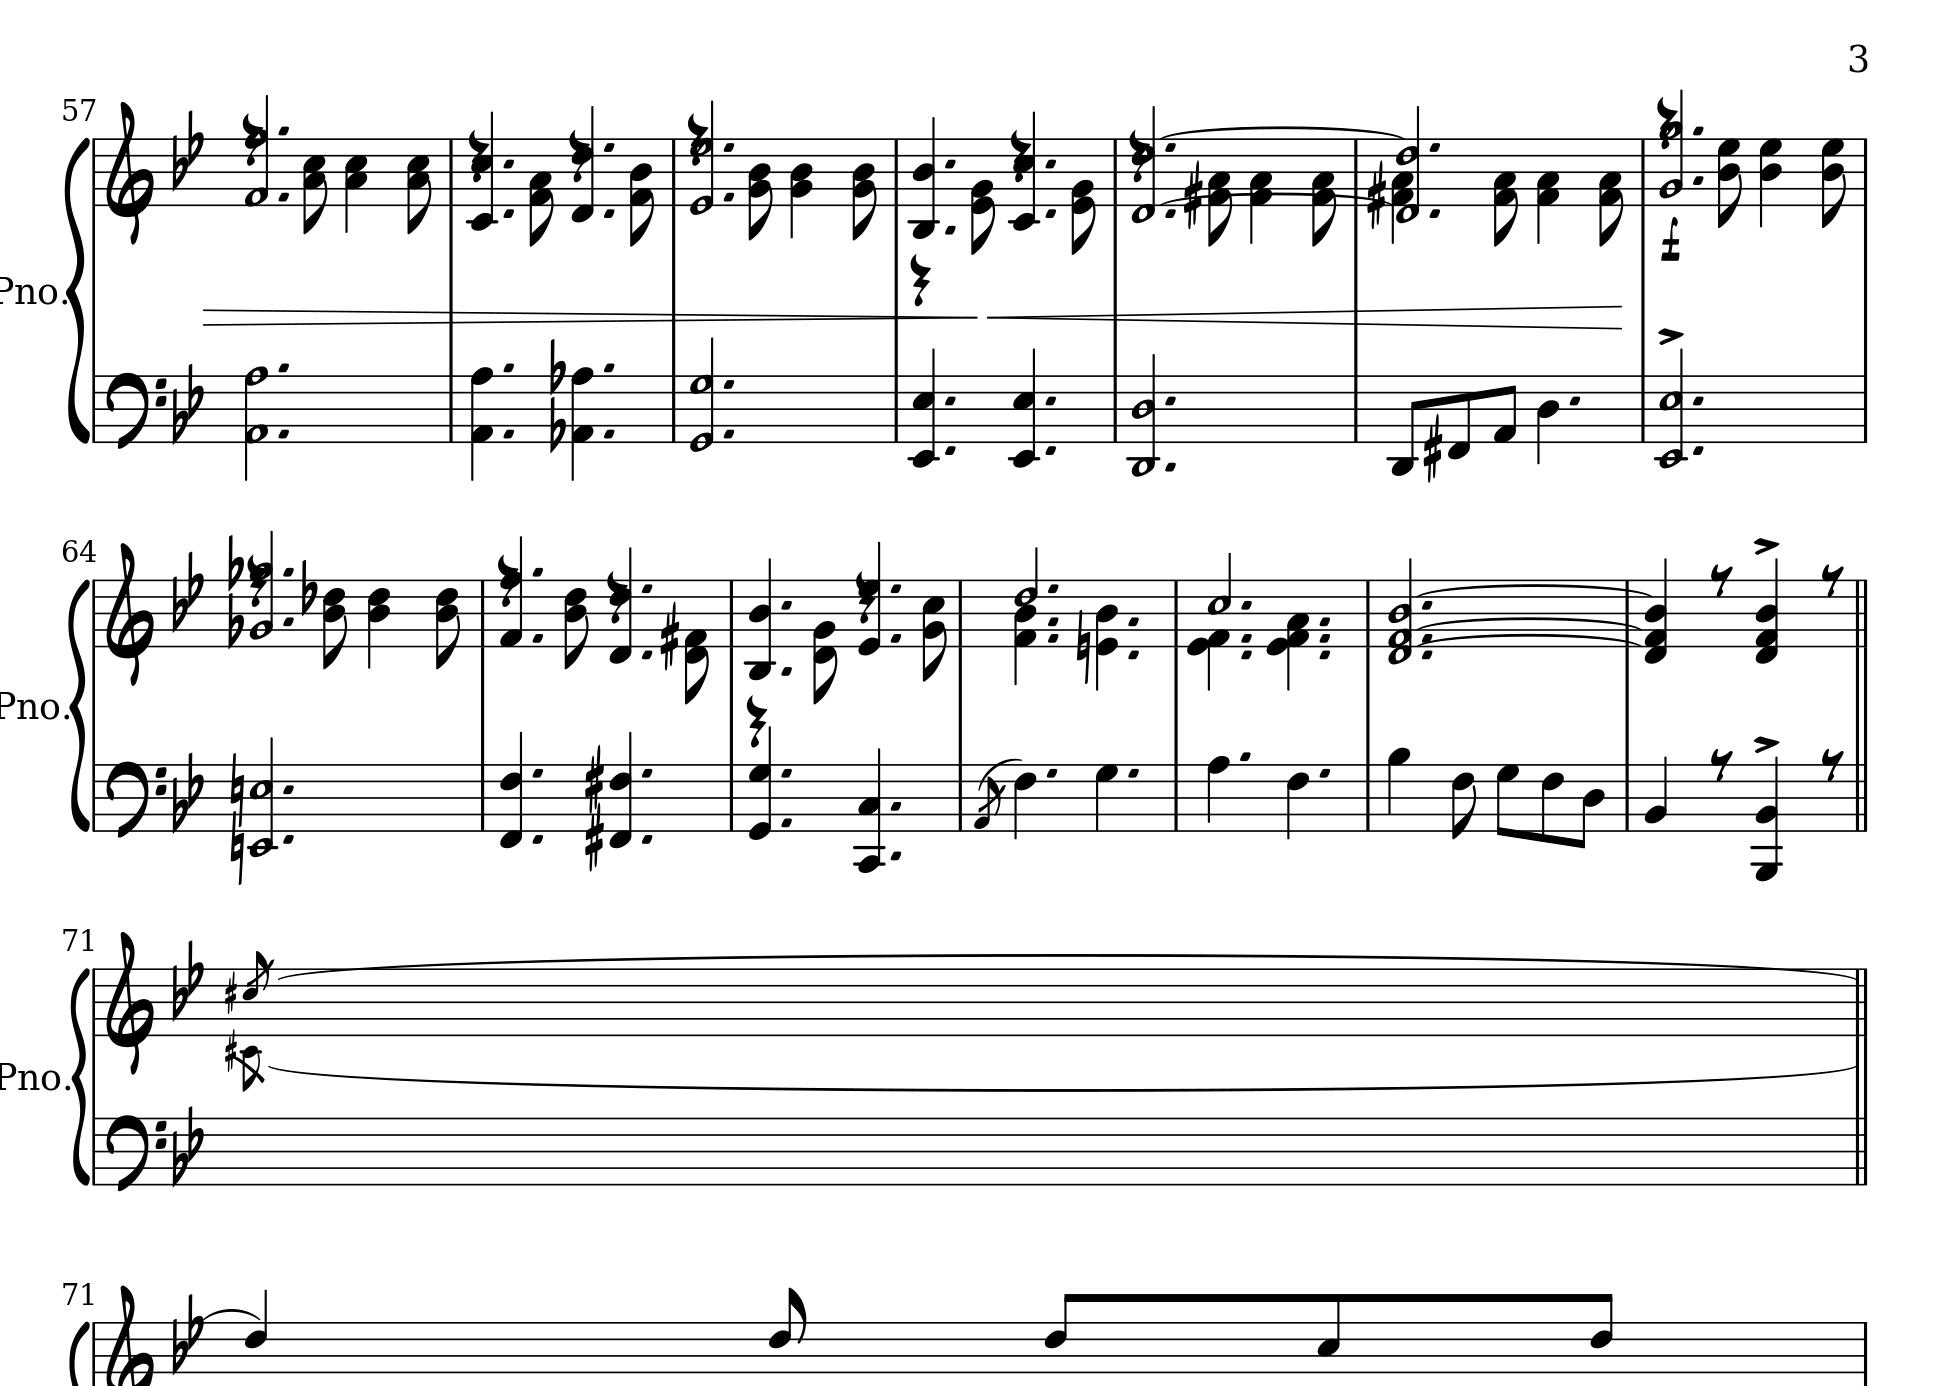1: (79, 925, 94, 954), (79, 1279, 94, 1308)
2_-2_5: (1654, 349, 1689, 471), (246, 736, 280, 856)
2_-3_4: (1125, 354, 1164, 477)
2_0_7: (685, 337, 715, 454)
2_1_8: (243, 364, 270, 483)
3: (1848, 40, 1869, 73)
4: (79, 537, 97, 564)
4_-1_6: (607, 730, 637, 849), (496, 730, 526, 849)
4_-2_5: (1008, 349, 1044, 469), (904, 348, 940, 468)
4_-3_4: (907, 114, 943, 240), (745, 558, 777, 682)
4_-4_3: (852, 748, 889, 874)
4_-5_2: (1752, 756, 1785, 882)
4_0_7: (747, 724, 775, 841)
4_1_3: (1249, 136, 1275, 250), (1536, 133, 1561, 247)
4_1_8: (568, 364, 595, 481), (468, 364, 493, 481)
4_2: (1642, 754, 1671, 832)
4_2_4: (789, 136, 816, 238)
4_3_5: (343, 136, 370, 235)
4_4: (1536, 373, 1560, 465)
4_4_6: (366, 577, 391, 675)
4_4_7: (1758, 136, 1783, 231)
4_6: (1284, 762, 1311, 841), (1012, 762, 1038, 840)
4_7: (1093, 762, 1119, 832)
4_8: (1206, 753, 1230, 832)
4_9: (1386, 745, 1411, 832)
4_th: (1642, 556, 1671, 666), (1389, 558, 1417, 666), (1755, 558, 1782, 666)
5: (60, 94, 78, 123)
6: (61, 535, 79, 562)
7: (79, 94, 97, 124), (61, 925, 79, 952), (61, 1279, 79, 1306)
8_-1: (1447, 373, 1473, 462)
8_-1_1: (682, 577, 712, 708)
8_-1_2: (811, 579, 838, 703)
8_-3: (1387, 373, 1419, 478)
8_0_2: (970, 136, 999, 256), (1069, 136, 1098, 255)
8_1: (1491, 373, 1518, 444)
8_1_3: (528, 136, 556, 247), (1206, 136, 1234, 247), (1492, 135, 1521, 246), (1597, 133, 1626, 244), (1311, 135, 1338, 246)
8_1_4: (628, 136, 657, 249)
8_2_4: (747, 136, 775, 241), (850, 136, 879, 241)
8_2_5: (921, 577, 951, 685)
8_3_5: (301, 136, 330, 235), (403, 136, 432, 235)
8_4: (1573, 763, 1606, 850)
8_4_6: (321, 577, 349, 669), (433, 577, 462, 667), (562, 577, 591, 667)
8_4_7: (1714, 136, 1747, 229), (1818, 135, 1851, 228)
8_6: (1449, 760, 1477, 841), (1539, 762, 1564, 844)
8_7: (1495, 762, 1519, 838)
Accent_above: (1659, 322, 1686, 346), (1752, 732, 1780, 753), (1752, 535, 1782, 555)
Acciaccature: (240, 949, 274, 1036), (970, 759, 1005, 834), (235, 1042, 265, 1092)
B_F: (169, 750, 205, 834), (169, 108, 204, 193), (169, 1294, 205, 1375), (171, 939, 205, 1023), (169, 361, 202, 445), (171, 1104, 204, 1186)
Brace: (64, 139, 90, 445), (70, 576, 90, 829), (72, 964, 91, 1185)
Double_barline: (1848, 1117, 1872, 1183), (1851, 579, 1872, 646), (1851, 763, 1872, 831), (1851, 967, 1872, 1033)
Fclef: (103, 1111, 166, 1194), (103, 370, 166, 451), (103, 759, 166, 840)
Flat: (547, 394, 565, 454), (298, 556, 316, 616), (547, 336, 565, 394), (225, 532, 241, 591), (226, 592, 243, 649)
Gclef: (103, 99, 154, 246), (103, 540, 154, 687), (103, 928, 154, 1075)
Natural: (1074, 607, 1092, 685), (229, 808, 244, 883), (229, 750, 244, 814)
Pno: (1, 687, 60, 723), (1, 1059, 60, 1095), (1, 271, 57, 307)
Rests4: (685, 103, 712, 168), (1008, 126, 1033, 187), (909, 252, 931, 307)
Rests8: (1708, 745, 1734, 781), (1710, 562, 1734, 597), (1821, 747, 1845, 781), (1821, 562, 1845, 595)
Sharp: (658, 600, 681, 670), (1182, 160, 1203, 232), (1366, 160, 1387, 231), (1422, 417, 1443, 483), (583, 745, 604, 811), (583, 805, 604, 871), (223, 970, 238, 1014), (223, 1029, 238, 1072)
Single_barline: (1347, 139, 1365, 204), (442, 375, 460, 439), (1857, 136, 1873, 205), (1108, 138, 1125, 205), (1857, 373, 1873, 441), (1360, 579, 1377, 646), (442, 139, 459, 205), (475, 579, 492, 645), (723, 580, 739, 646), (474, 763, 490, 829), (1168, 763, 1185, 829), (1360, 763, 1377, 829), (888, 376, 904, 441), (1348, 376, 1365, 441), (1168, 580, 1185, 645), (1620, 580, 1636, 643), (88, 138, 103, 205), (889, 138, 904, 205), (667, 138, 682, 204), (666, 375, 681, 441), (952, 579, 967, 645), (724, 763, 739, 829), (952, 763, 967, 829), (1620, 763, 1635, 829), (1857, 1321, 1873, 1381), (1636, 139, 1651, 202), (1108, 375, 1122, 442), (1636, 375, 1650, 441), (88, 763, 102, 828), (88, 1117, 102, 1182), (88, 967, 100, 1036), (88, 579, 100, 646), (88, 375, 100, 439)
Slur: (1422, 580, 1645, 597), (1155, 124, 1404, 136), (1410, 616, 1642, 627), (1428, 633, 1629, 645), (205, 1306, 261, 1321)
dot: (1317, 615, 1332, 658), (1125, 619, 1141, 649), (1237, 631, 1255, 658), (274, 358, 291, 376), (778, 595, 795, 612), (639, 763, 655, 780), (1125, 763, 1141, 780), (1317, 763, 1333, 780), (639, 829, 655, 846), (888, 846, 904, 862), (1566, 391, 1584, 406), (943, 441, 958, 459), (1236, 748, 1254, 763), (720, 139, 736, 154), (1426, 139, 1443, 154), (943, 154, 958, 171), (502, 360, 517, 376), (601, 360, 618, 375), (1045, 391, 1060, 408), (721, 424, 736, 441), (1044, 441, 1059, 457), (1692, 441, 1707, 457), (1164, 457, 1179, 474), (886, 580, 903, 595), (1239, 595, 1254, 612), (279, 613, 295, 628), (531, 763, 546, 780), (1044, 763, 1059, 780), (531, 829, 546, 846), (274, 123, 292, 136), (601, 139, 616, 154), (1428, 205, 1443, 220), (721, 376, 736, 391), (943, 393, 958, 408), (1164, 393, 1179, 408), (1045, 580, 1060, 595), (778, 663, 793, 678), (778, 765, 793, 780), (780, 814, 795, 829), (280, 831, 295, 846), (1689, 123, 1705, 136), (1162, 141, 1179, 154), (274, 189, 291, 202), (1692, 391, 1705, 408), (502, 424, 516, 441), (274, 426, 291, 439), (529, 564, 546, 577), (1047, 628, 1060, 645), (499, 156, 514, 169), (1044, 156, 1059, 169), (1690, 172, 1705, 186), (1044, 205, 1057, 220), (501, 205, 514, 220), (601, 205, 615, 220), (1162, 205, 1176, 220), (280, 564, 295, 577), (640, 580, 654, 595), (1317, 613, 1332, 627), (1126, 615, 1141, 628), (529, 630, 544, 643), (1318, 646, 1333, 660), (1419, 646, 1434, 660), (639, 646, 652, 661), (1126, 646, 1141, 660), (280, 781, 295, 795), (889, 798, 903, 813), (721, 189, 735, 202), (603, 426, 616, 439), (1420, 598, 1434, 612), (888, 630, 901, 643), (943, 223, 955, 238), (1317, 630, 1332, 642)
f: (1659, 216, 1681, 264)
